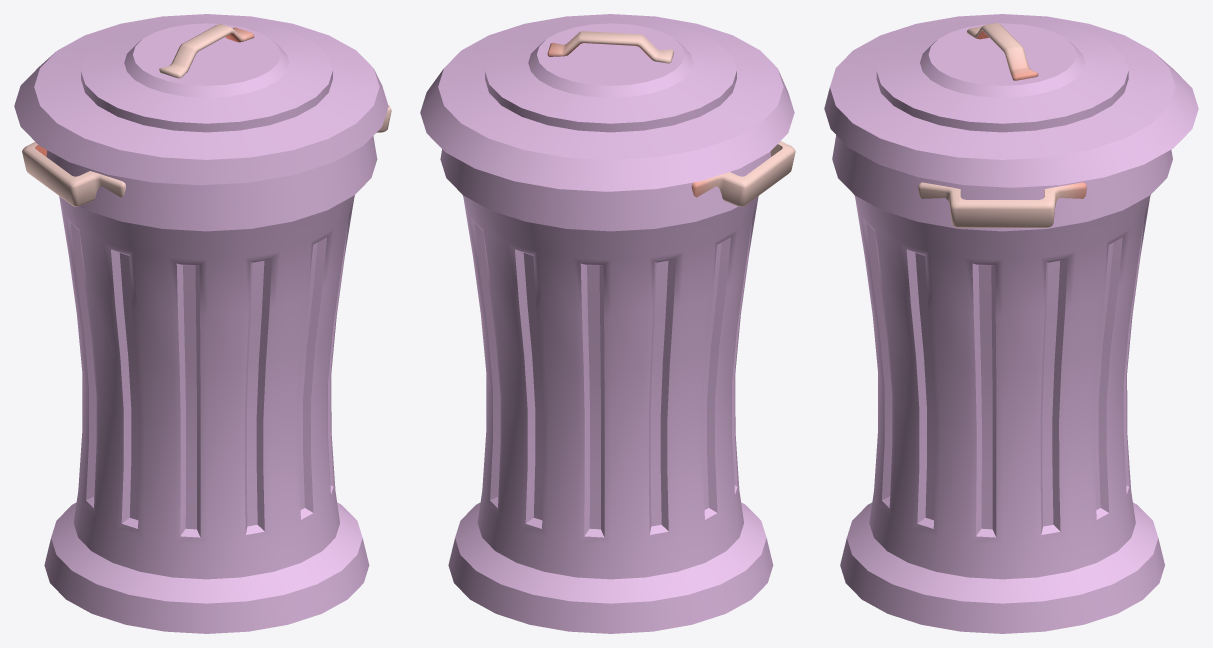
The model's file is TrashCan.fbx.
3 views of the same model, side by side, from view 1: azimuth 30°, elevation 25°; view 2: azimuth 150°, elevation 25°; view 3: azimuth 270°, elevation 25° (orthographic).
Visible parts, largest first — view 1: Cylinder.001, Cylinder.003, handles, Cylinder.002; view 2: Cylinder.001, Cylinder.003, handles, Cylinder.002; view 3: Cylinder.001, Cylinder.003, handles, Cylinder.002.
Part boxes in pixels (x1=…): Cylinder.001: x1=44, y1=136, x2=377, y2=633; Cylinder.003: x1=14, y1=14, x2=388, y2=185; handles: x1=22, y1=105, x2=391, y2=206; Cylinder.002: x1=159, y1=24, x2=254, y2=78; Cylinder.001: x1=440, y1=149, x2=773, y2=633; Cylinder.003: x1=420, y1=14, x2=794, y2=191; handles: x1=691, y1=141, x2=795, y2=206; Cylinder.002: x1=547, y1=31, x2=673, y2=63; Cylinder.001: x1=832, y1=135, x2=1172, y2=633; Cylinder.003: x1=824, y1=14, x2=1198, y2=187; handles: x1=918, y1=182, x2=1086, y2=227; Cylinder.002: x1=967, y1=23, x2=1038, y2=80.
Size of the model in its own units: 0.8805 by 0.8805 by 1.37.
